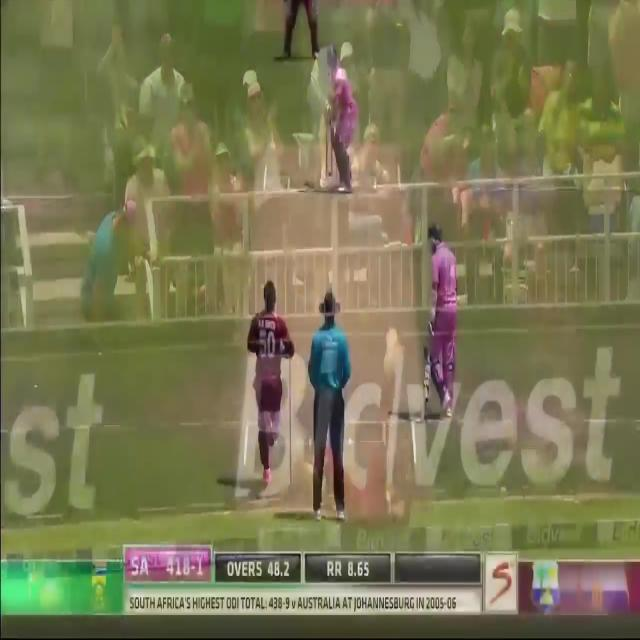Ball: (318, 37, 366, 191), (426, 218, 459, 420)
Fielder: (243, 280, 295, 484)
Umpire: (308, 294, 352, 522)
